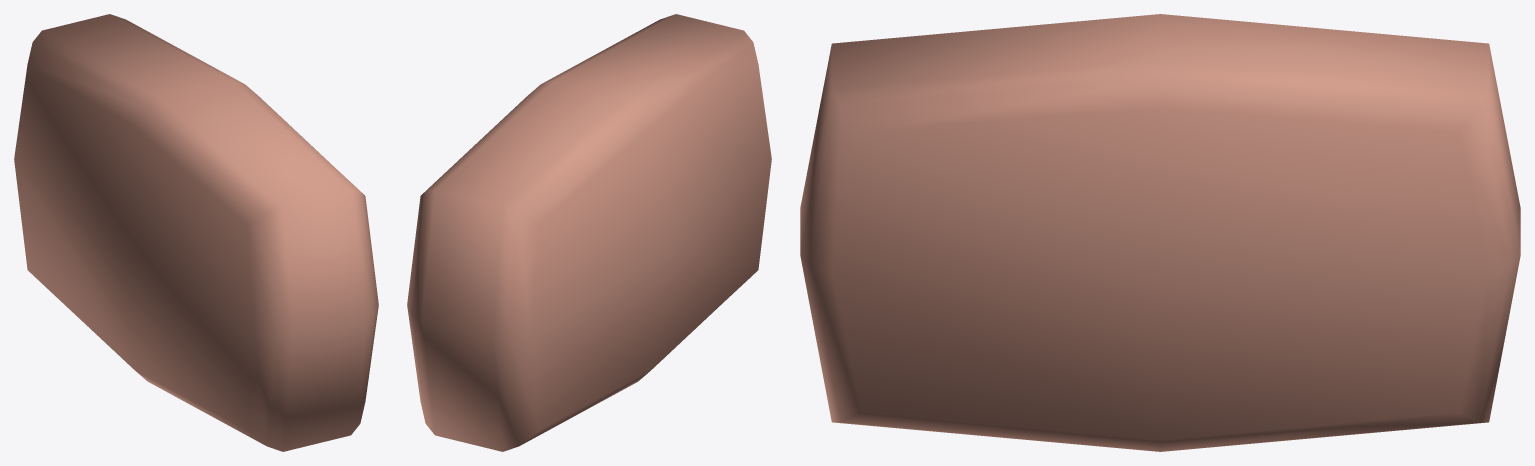
Rendered from pillow3.fbx.
3 views of the same model, side by side, from view 1: azimuth 30°, elevation 25°; view 2: azimuth 150°, elevation 25°; view 3: azimuth 270°, elevation 25° (orthographic). The views are drawn at different scales.
Visible parts, largest first — view 1: pillow A.002; view 2: pillow A.002; view 3: pillow A.002.
Part boxes in pixels (x1=…): pillow A.002: x1=14, y1=14, x2=378, y2=451; pillow A.002: x1=407, y1=14, x2=771, y2=451; pillow A.002: x1=800, y1=14, x2=1520, y2=451.
Bounding box in the file's own units: 84.35 × 144 × 241.
